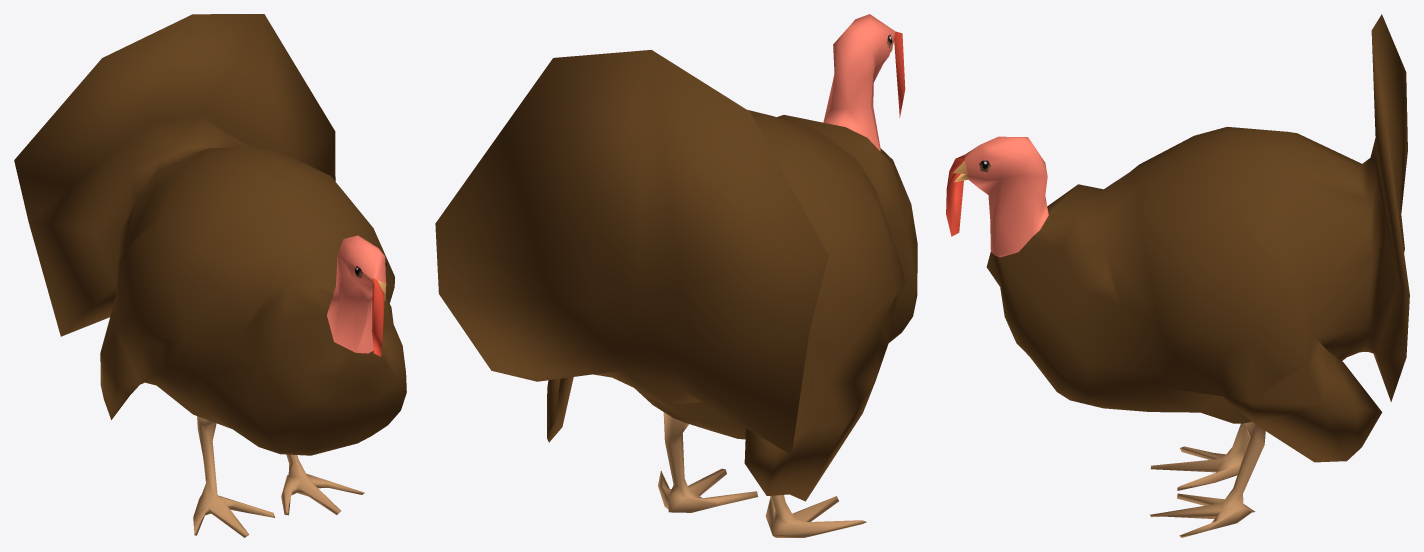
File: 3d3d30f0-7d24-4cad-b2f3-a5a704c1287b.glb
The picture shows the model from 3 angles, left to right: view 1: azimuth 30°, elevation 25°; view 2: azimuth 150°, elevation 25°; view 3: azimuth 270°, elevation 25°; orthographic projection. The views are drawn at different scales.
Parts seen in each view (by area): view 1: TurkeyMale; view 2: TurkeyMale; view 3: TurkeyMale.
Boxes of the visible parts, bbox=[...] form: TurkeyMale: bbox=[14, 14, 406, 537]; TurkeyMale: bbox=[435, 14, 917, 537]; TurkeyMale: bbox=[946, 14, 1409, 537].
Size of what is drawn, in the model's own units: 0.8395 by 1.08 by 0.9778.
Materials: 1 (1 with a texture image).
